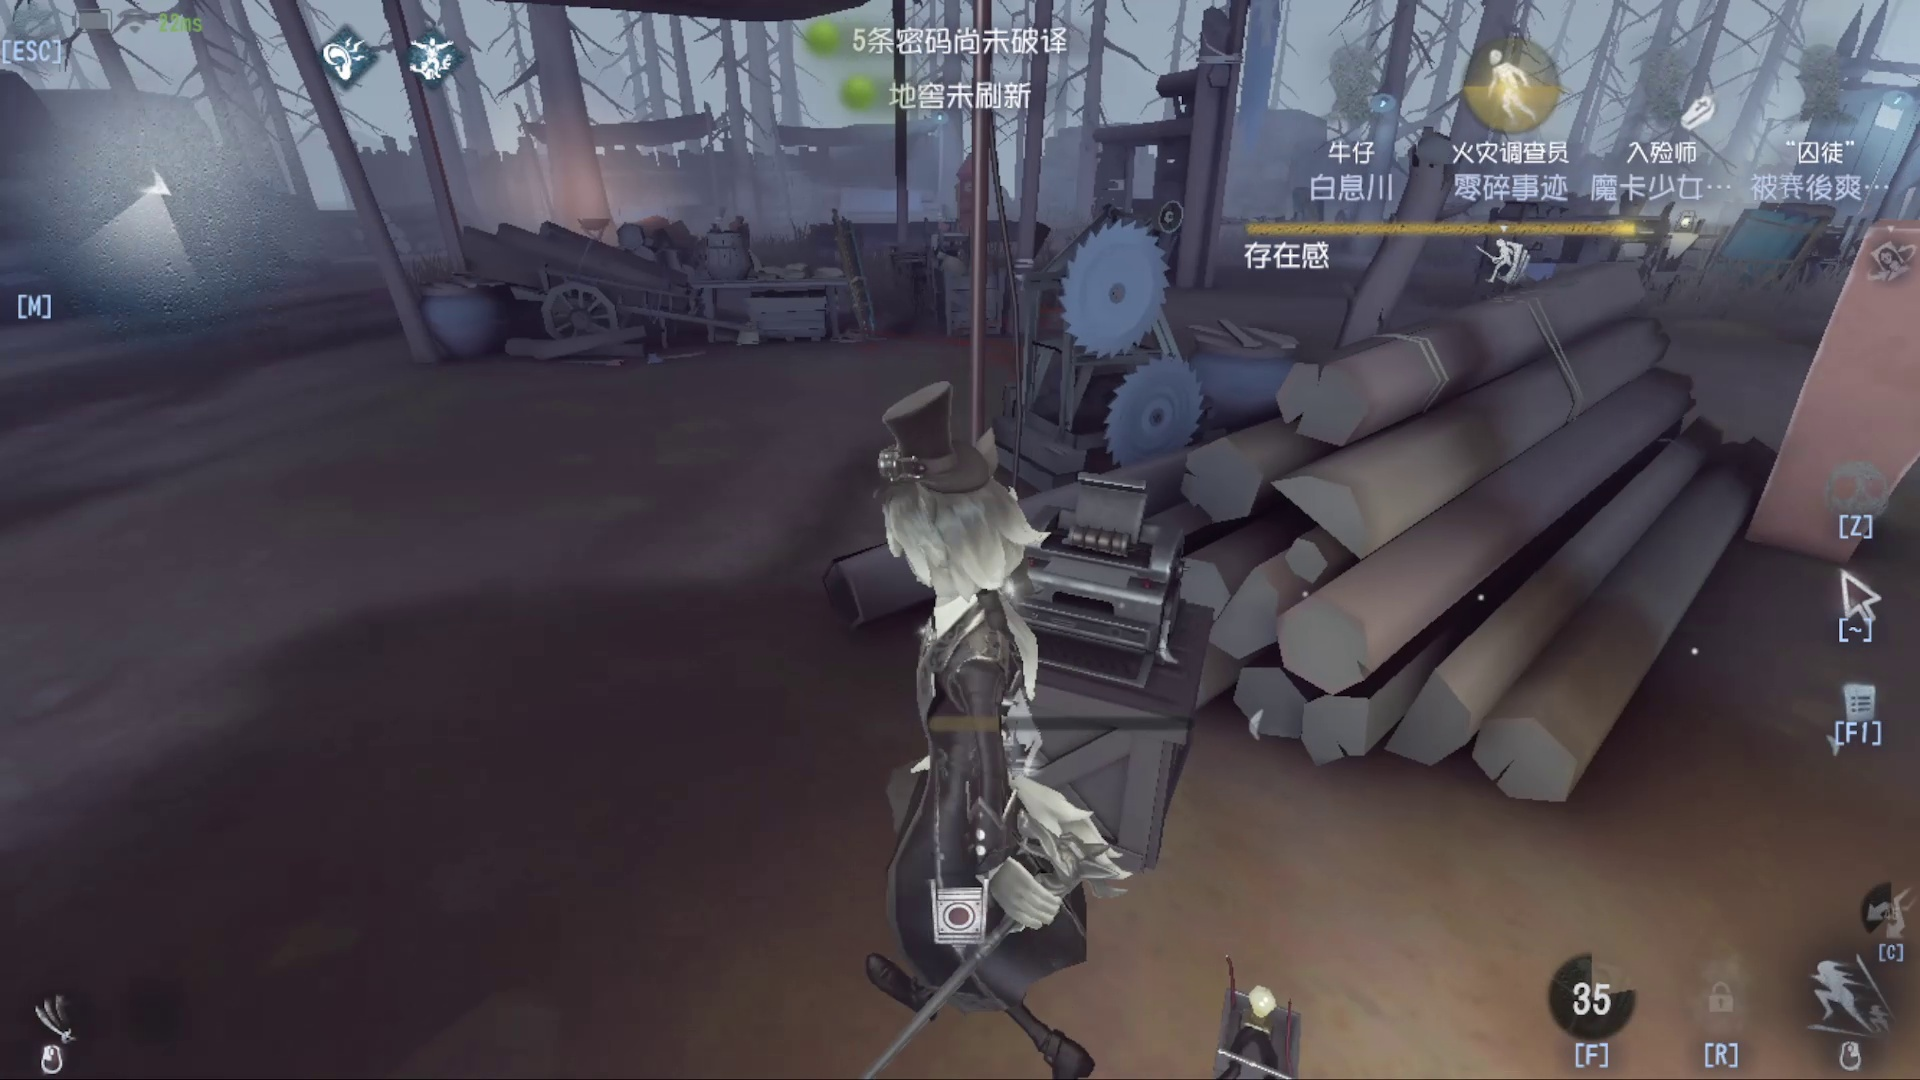密码机: (893, 419, 1265, 901)
木板: (819, 194, 882, 345)
狂欢之椅: (942, 138, 1007, 282)
